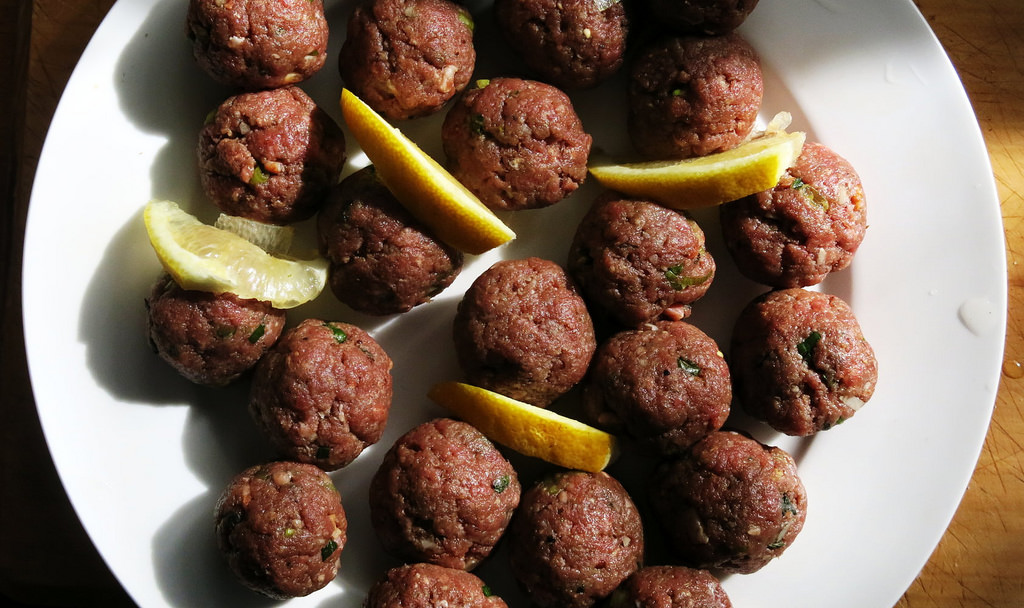meatballs: (517, 222, 883, 414), (396, 422, 672, 608), (170, 334, 378, 575), (386, 17, 588, 183), (222, 9, 309, 209)
